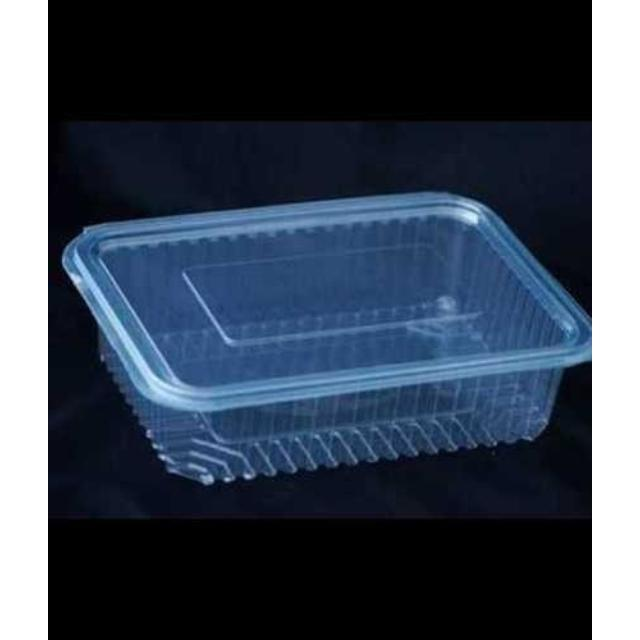plastic: (63, 193, 590, 484)
